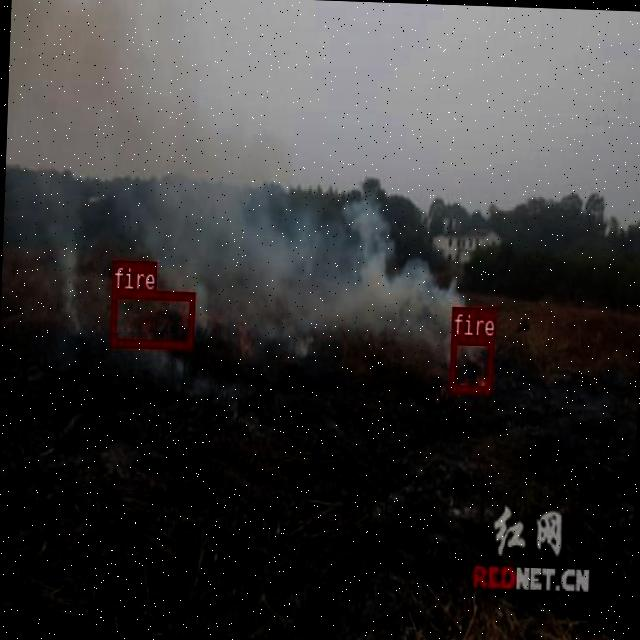fire: (109, 288, 194, 346), (448, 335, 492, 393)
